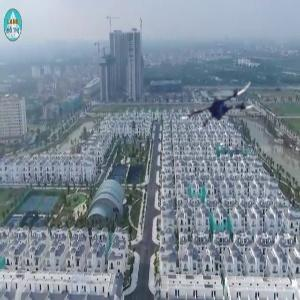drone: (179, 62, 259, 142)
